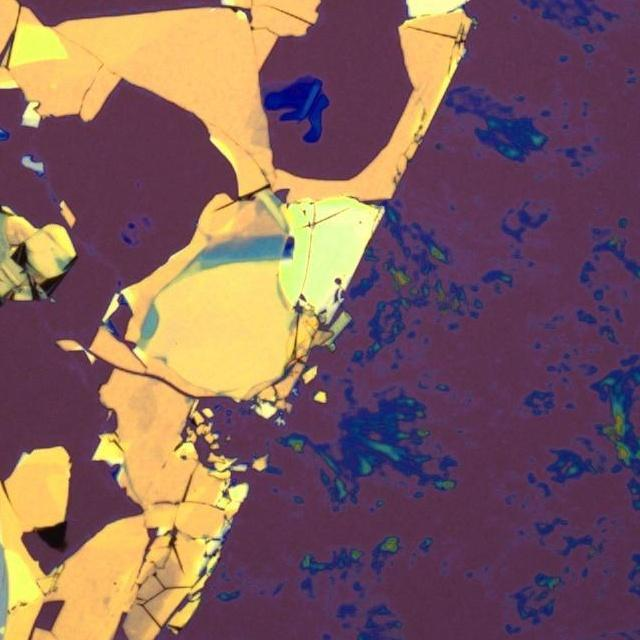monolayer-eWW4: (263, 80, 286, 92)
